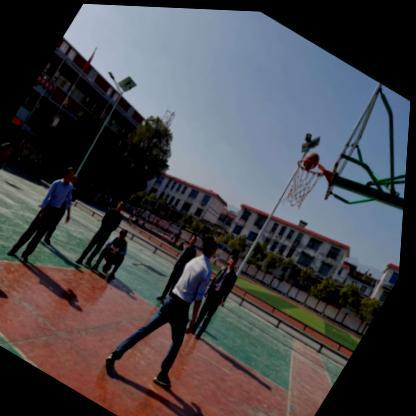basketball: (302, 146, 325, 171)
rim: (279, 151, 330, 210)
